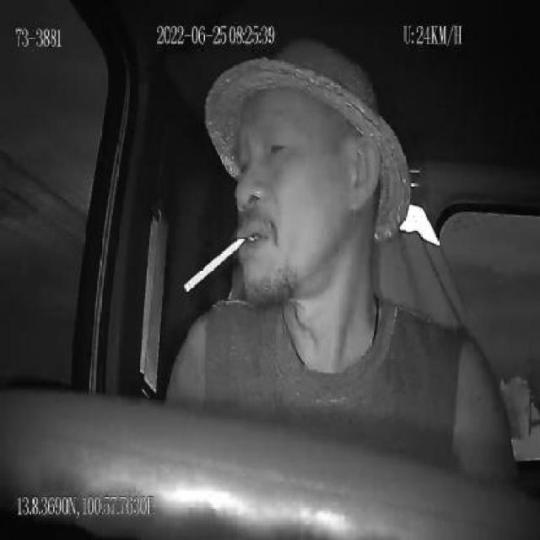smoking: (183, 235, 246, 292)
